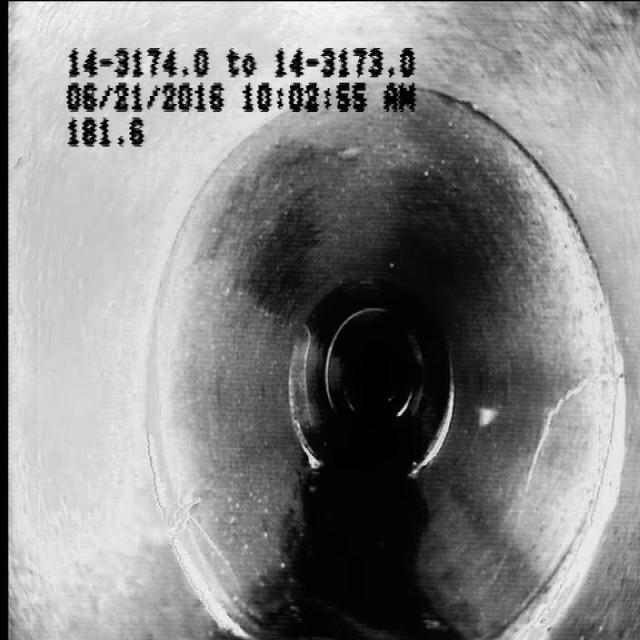Crack: (482, 349, 611, 569)
